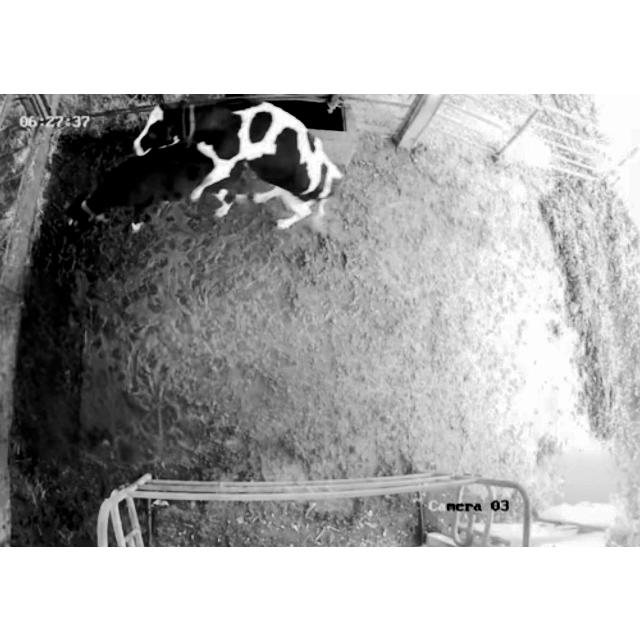ride: (133, 94, 351, 242)
